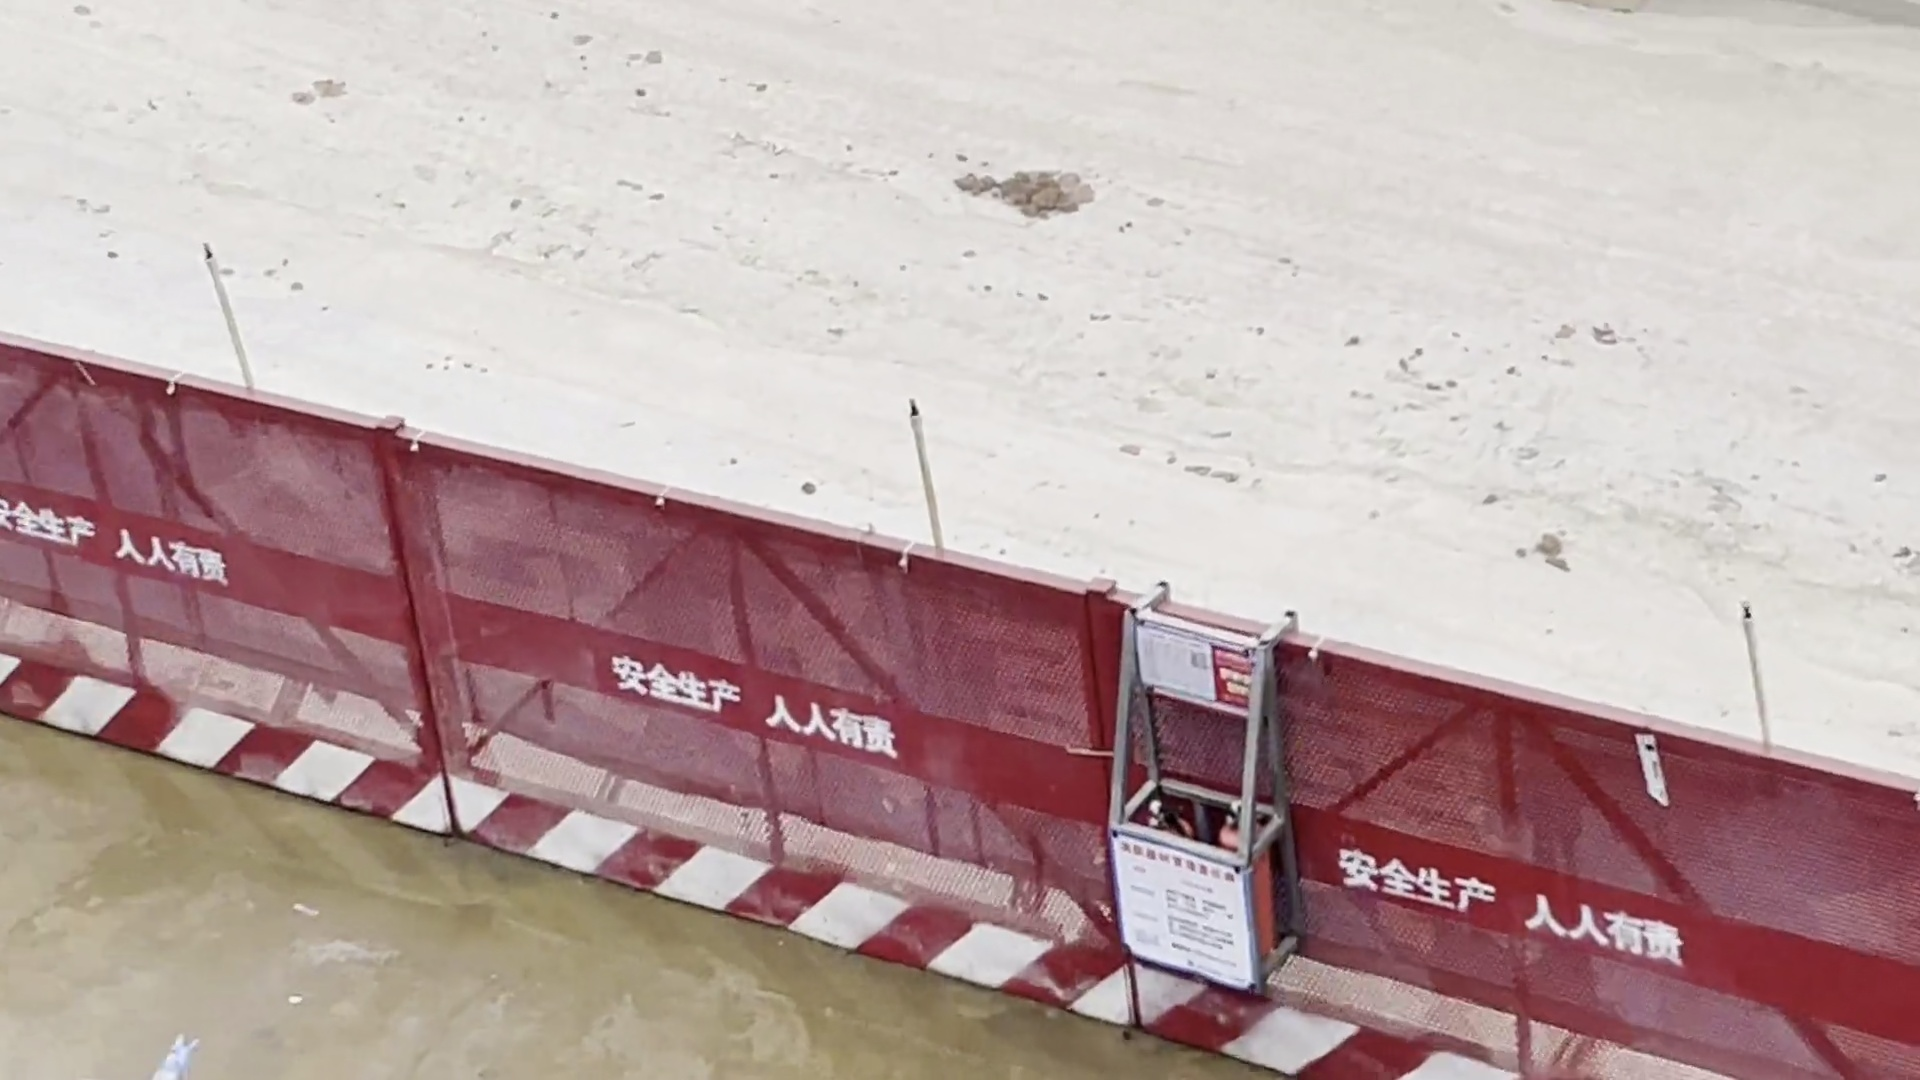fence: (1, 342, 1875, 1071)
